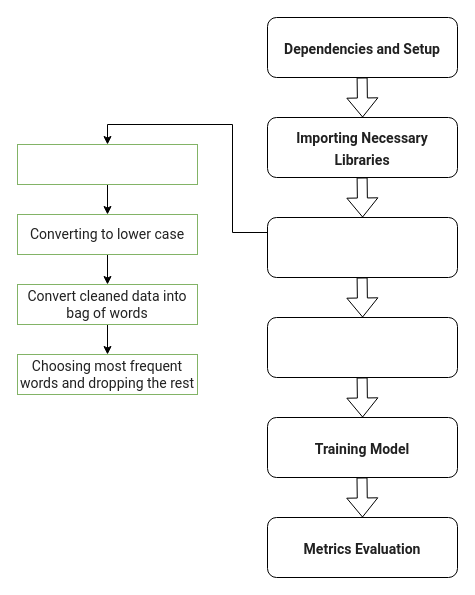
The diagram is 475 pixels wide and 595 high, and some of its shapes have lost their labels. The box of each missing label's shape, as (x1, y1, x2, y2) in pixels:
Buliding ML/DL Model: (266, 316, 458, 378)
Data Preprocessing: (266, 216, 458, 278)
Dropping all special words: (16, 144, 198, 184)
